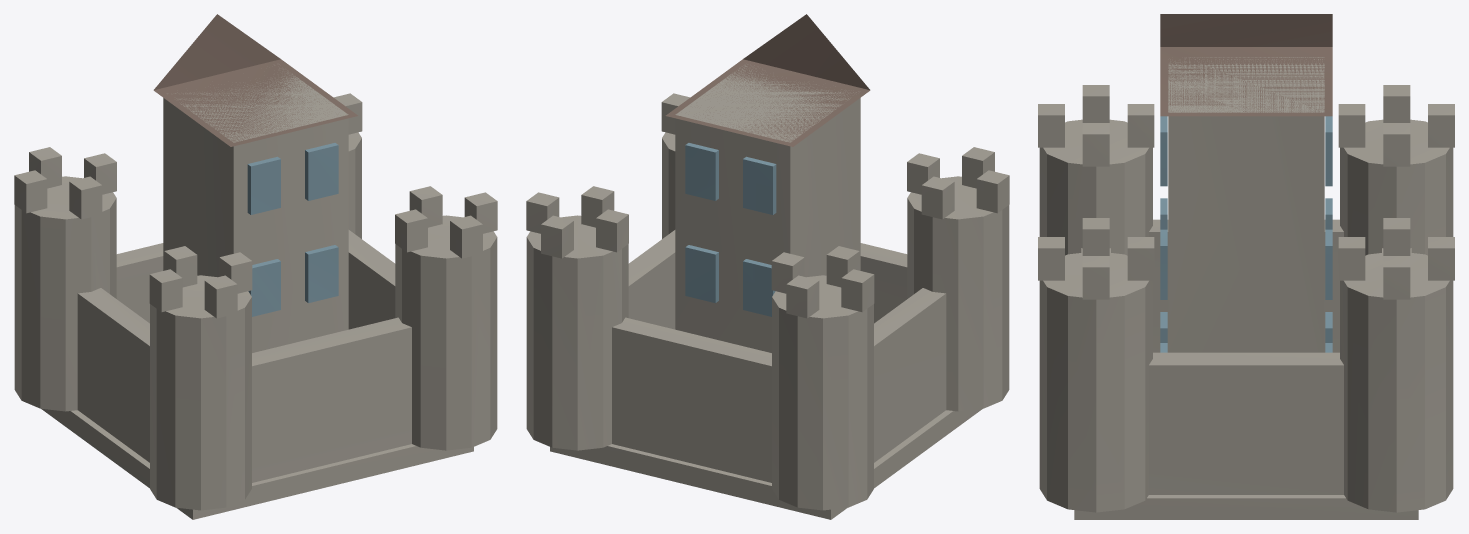
File: castle-04.glb
The picture shows the model from 3 angles, left to right: view 1: azimuth 30°, elevation 25°; view 2: azimuth 150°, elevation 25°; view 3: azimuth 270°, elevation 25°; orthographic projection. The views are drawn at different scales.
Visible parts, largest first — view 1: world; view 2: world; view 3: world.
Part boxes in pixels (<box>): world: <box>14,14,497,519</box>; world: <box>526,14,1009,519</box>; world: <box>1038,14,1454,519</box>.
Bounding box in the file's own units: 1.45 × 1.59 × 1.4.
